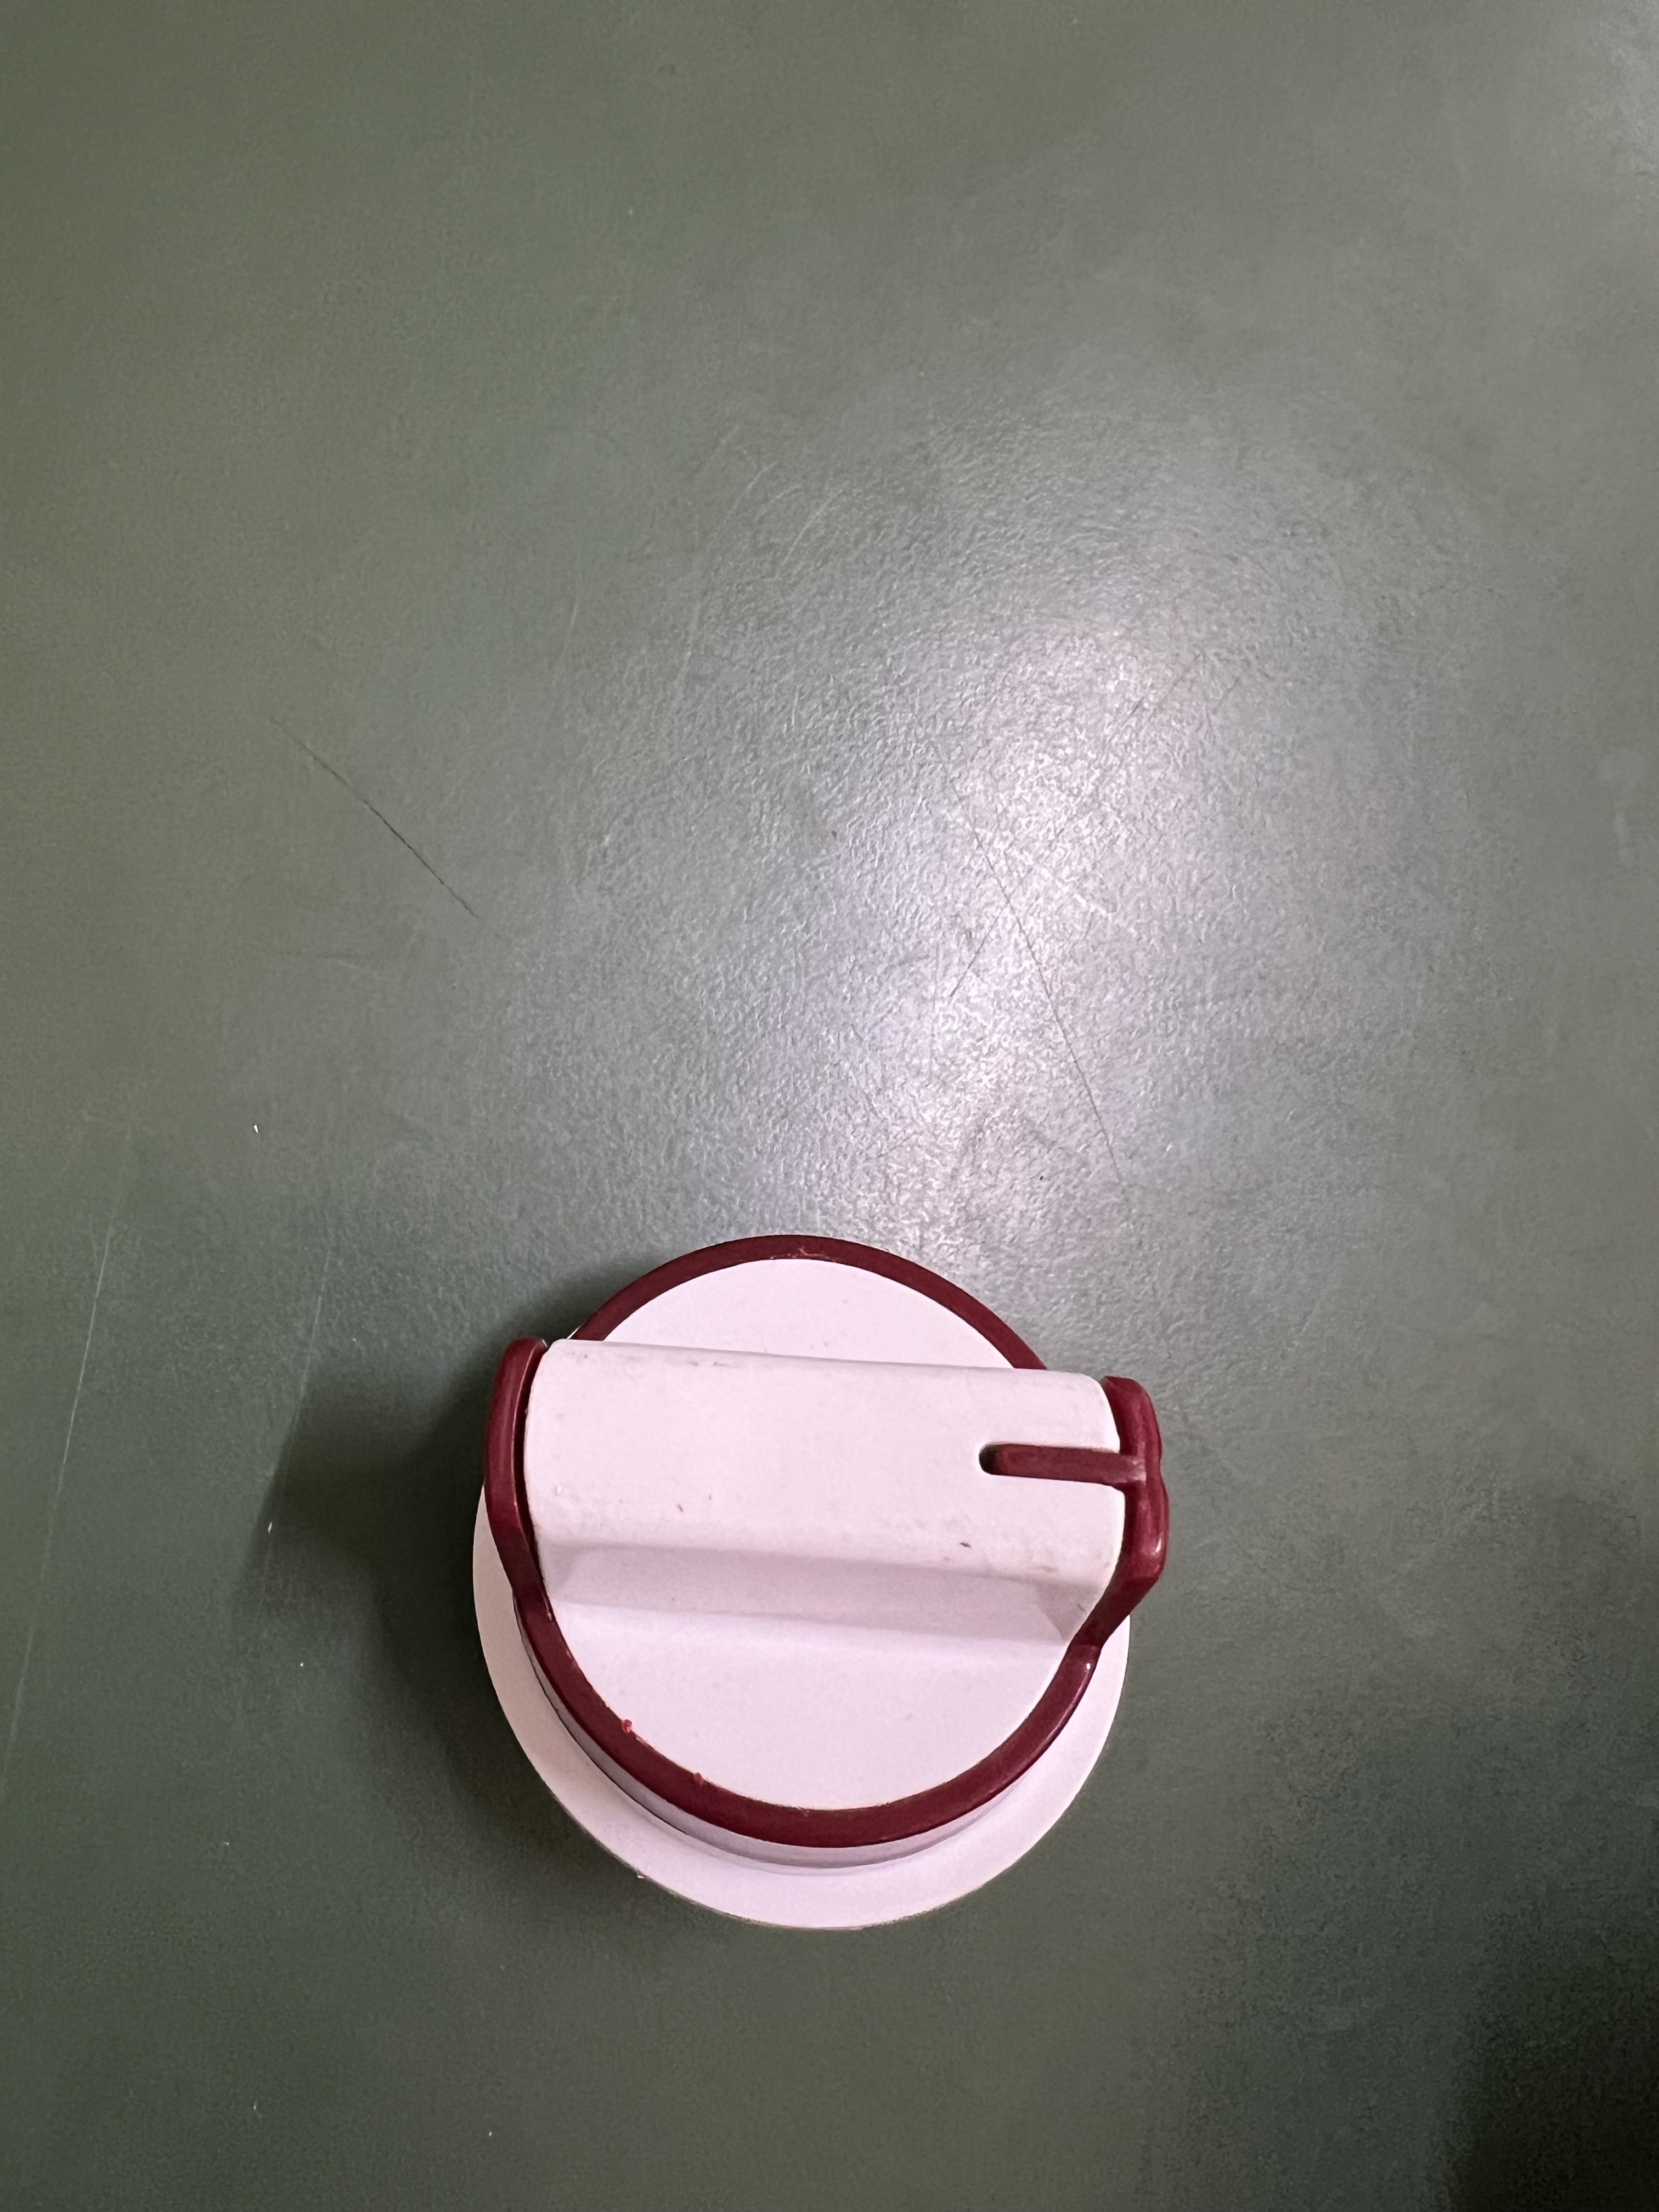regulator: (488, 1179, 1199, 1911)
